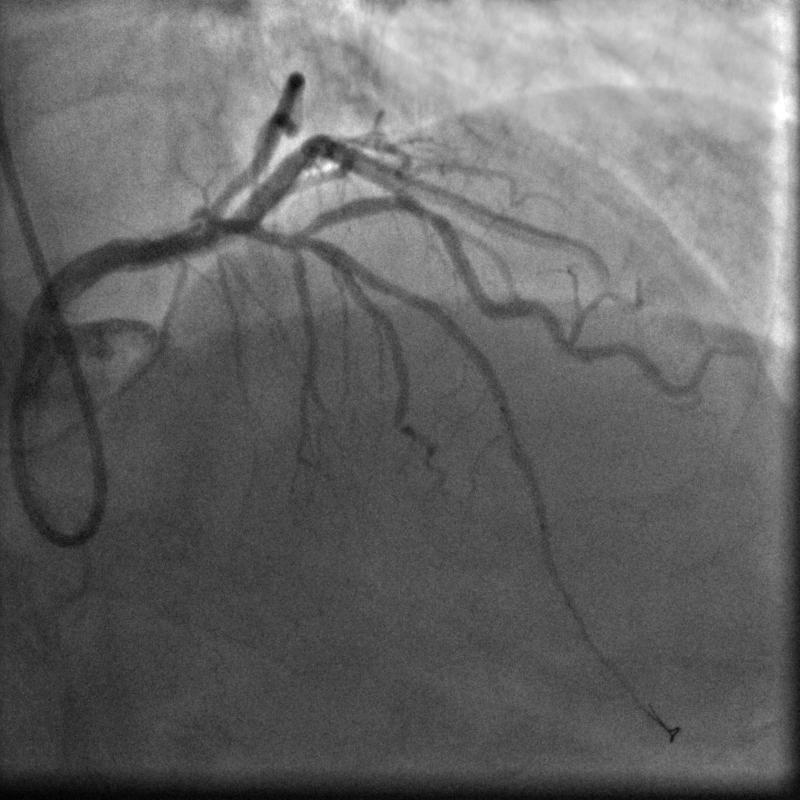Stenosis: (406, 188, 442, 236)
